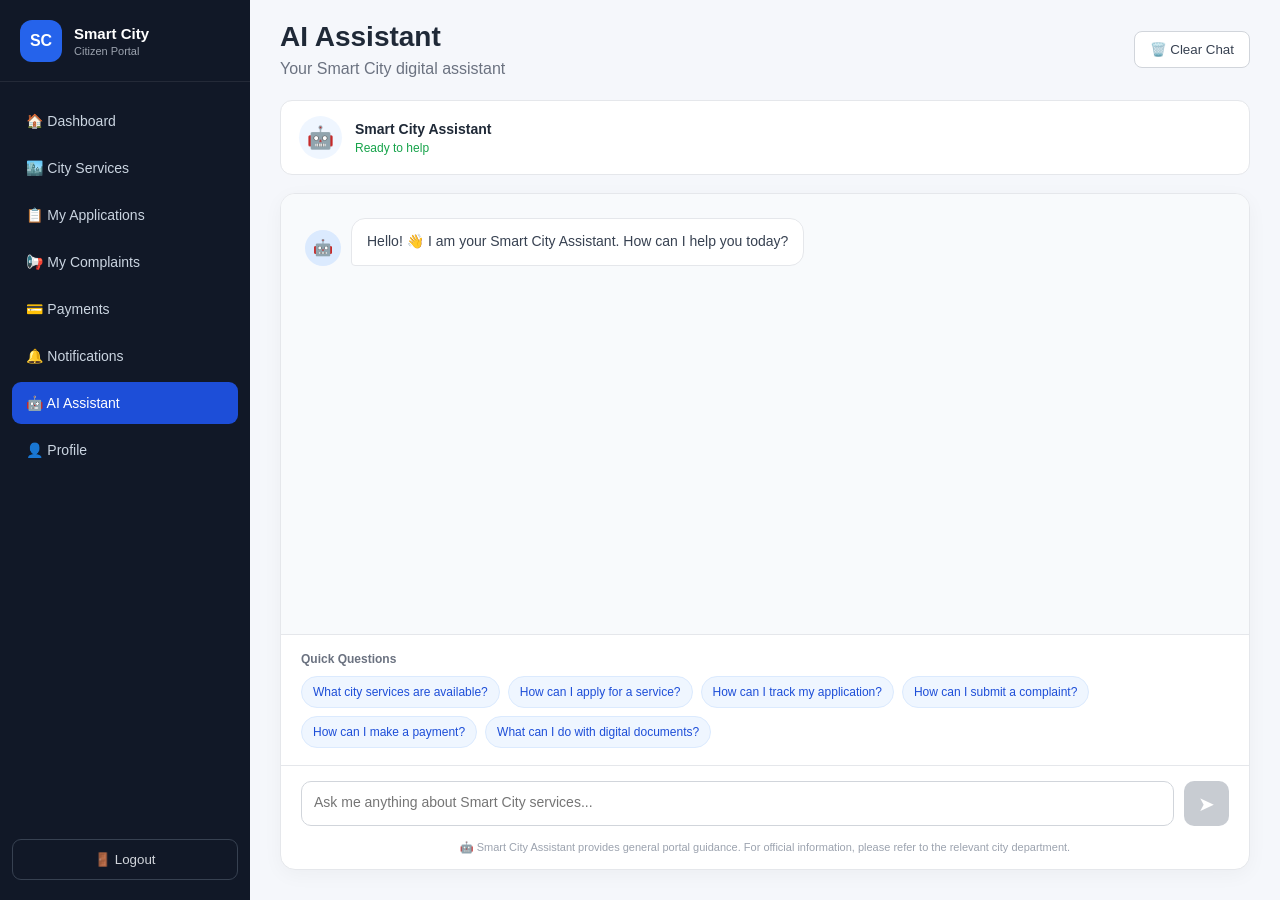
Test case: current citizen login works without the obsolete user key
(page scrolled)
Type "How can I make a payment?" into the text box named "Your question". click: (738, 804)
box: [301,781,1174,826]
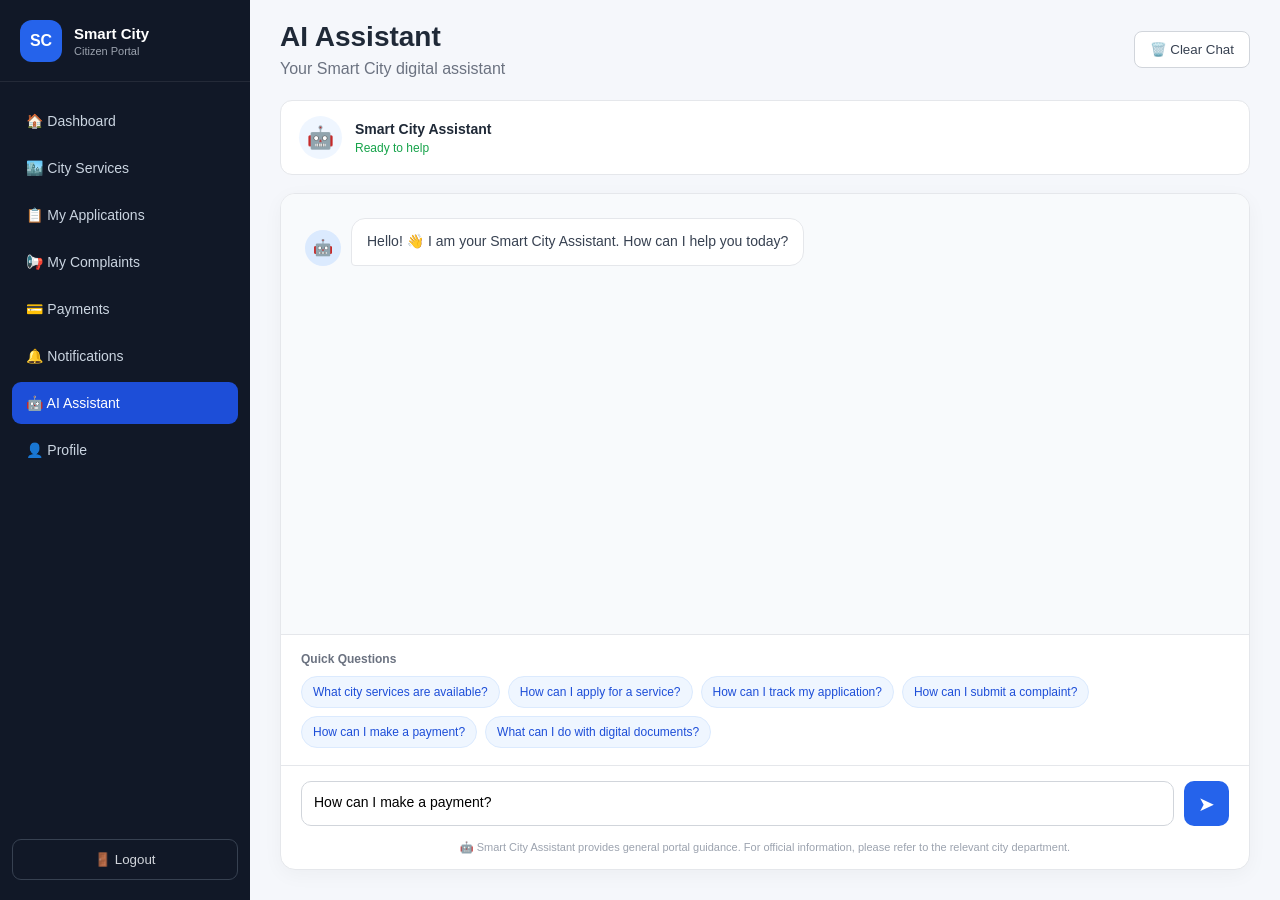
Click the button named "Send message". click: (1206, 804)
box: [1184,781,1229,826]
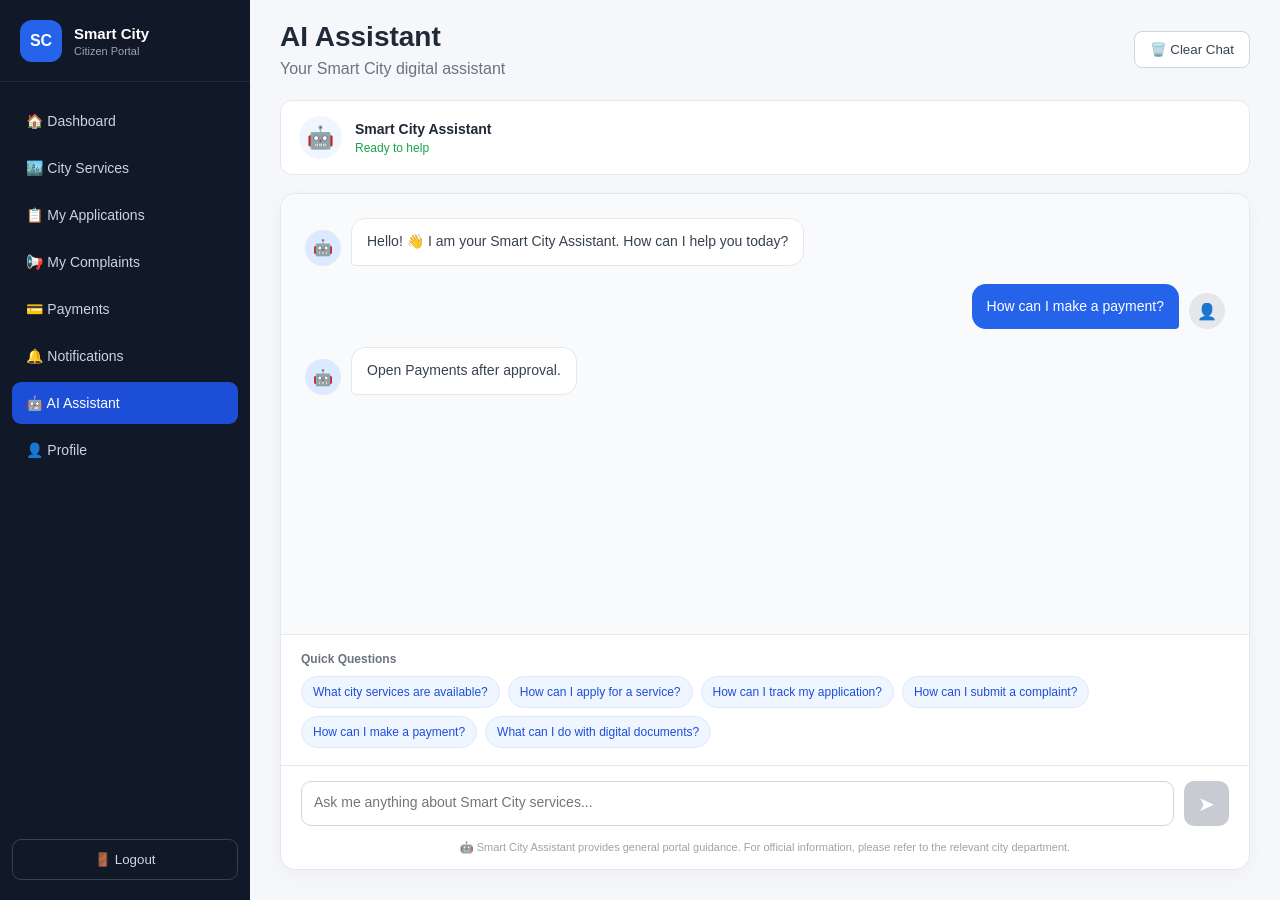
expect the text "Open Payments after approval." is shown: met, box [351,347,577,395]
